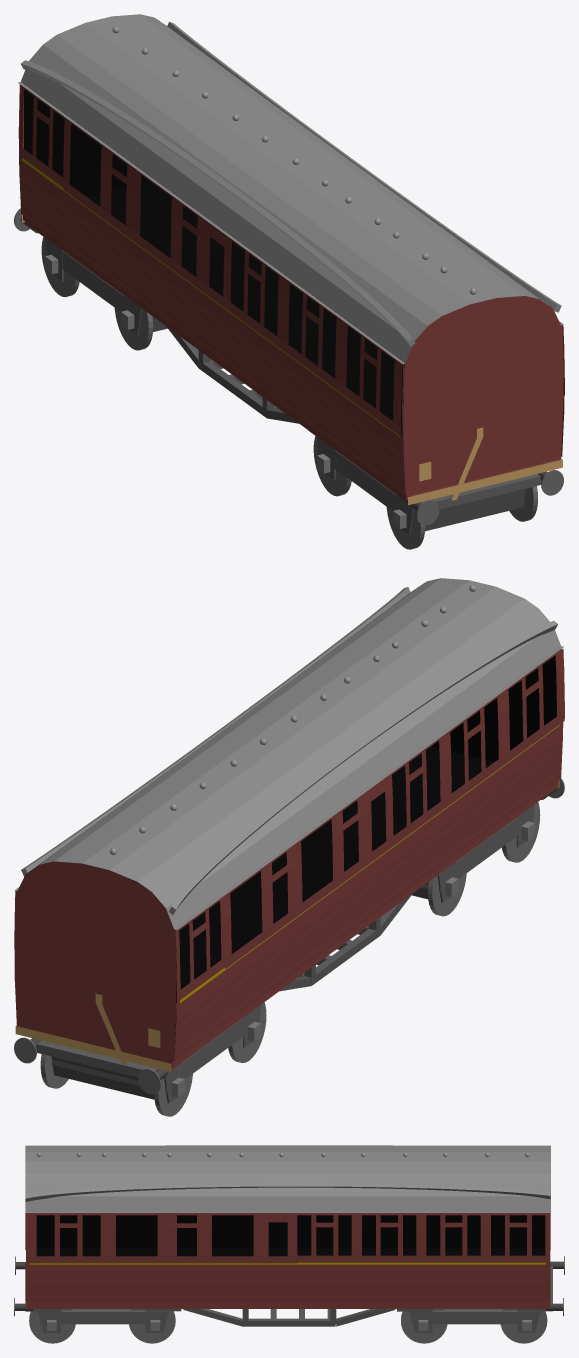
File: lner-standard-51ft-composite-lavatory-maroon.dae
The picture shows the model from 3 angles, top to bottom: view 1: azimuth 30°, elevation 25°; view 2: azimuth 150°, elevation 25°; view 3: azimuth 270°, elevation 25°; orthographic projection. The views are drawn at different scales.
Parts seen in each view (by area): view 1: Plane_002, Plane_006, Plane_359, Plane_083, Plane_019, Cube_043, Plane_009, Plane_011, Cube_028, Plane_012, Cube_029, Plane_003 (+8 smaller); view 2: Plane_002, Plane_001, Plane_359, Plane_083, Plane_019, Plane_009, Plane_011, Cube_043, Cube_028, Cube_070, Plane_012, Cube_029 (+8 smaller); view 3: Plane_083, Plane_359, Plane_019, Plane_002, Plane_016, Plane_013, Cube_043, Plane_012, Cube_029, Plane_000, Cube_072, Plane_010 (+8 smaller).
Boxes of the visible parts, left/top/right/bottom form: Plane_002: left=18, top=19, right=483, bottom=363; Plane_006: left=402, top=296, right=563, bottom=494; Plane_359: left=19, top=85, right=564, bottom=494; Plane_083: left=99, top=14, right=563, bottom=325; Plane_019: left=24, top=89, right=402, bottom=435; Cube_043: left=308, top=430, right=541, bottom=549; Plane_009: left=227, top=238, right=402, bottom=436; Plane_011: left=63, top=118, right=209, bottom=295; Cube_028: left=21, top=60, right=415, bottom=346; Plane_012: left=23, top=215, right=561, bottom=500; Cube_029: left=167, top=22, right=561, bottom=312; Plane_003: left=408, top=427, right=562, bottom=505; Plane_002: left=97, top=583, right=563, bottom=929; Plane_001: left=14, top=861, right=176, bottom=1061; Plane_359: left=14, top=650, right=563, bottom=1061; Plane_083: left=14, top=578, right=481, bottom=890; Plane_019: left=174, top=655, right=556, bottom=1050; Plane_009: left=388, top=649, right=564, bottom=848; Plane_011: left=223, top=790, right=370, bottom=969; Cube_043: left=412, top=802, right=540, bottom=916; Cube_028: left=169, top=620, right=557, bottom=914; Cube_070: left=36, top=1040, right=182, bottom=1103; Plane_012: left=16, top=781, right=558, bottom=1067; Cube_029: left=21, top=587, right=410, bottom=876; Plane_083: left=25, top=1156, right=550, bottom=1212; Plane_359: left=25, top=1213, right=550, bottom=1302; Plane_019: left=36, top=1215, right=545, bottom=1256; Plane_002: left=25, top=1145, right=550, bottom=1156; Plane_016: left=297, top=1215, right=550, bottom=1262; Plane_013: left=105, top=1213, right=266, bottom=1263; Cube_043: left=25, top=1302, right=181, bottom=1343; Plane_012: left=26, top=1301, right=550, bottom=1306; Cube_029: left=25, top=1183, right=550, bottom=1201; Plane_000: left=26, top=1213, right=104, bottom=1263; Cube_072: left=432, top=1309, right=537, bottom=1324; Plane_010: left=261, top=1213, right=296, bottom=1263.
Size of the model in its own units: 2.09 by 8.92 by 3.07.
